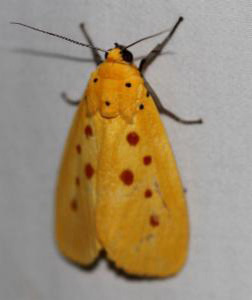Agape chloropyga: (5, 14, 204, 278)
moth: (7, 16, 206, 280)
